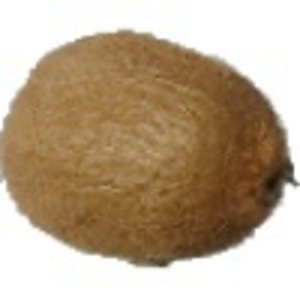kiwi: (1, 28, 300, 270)
